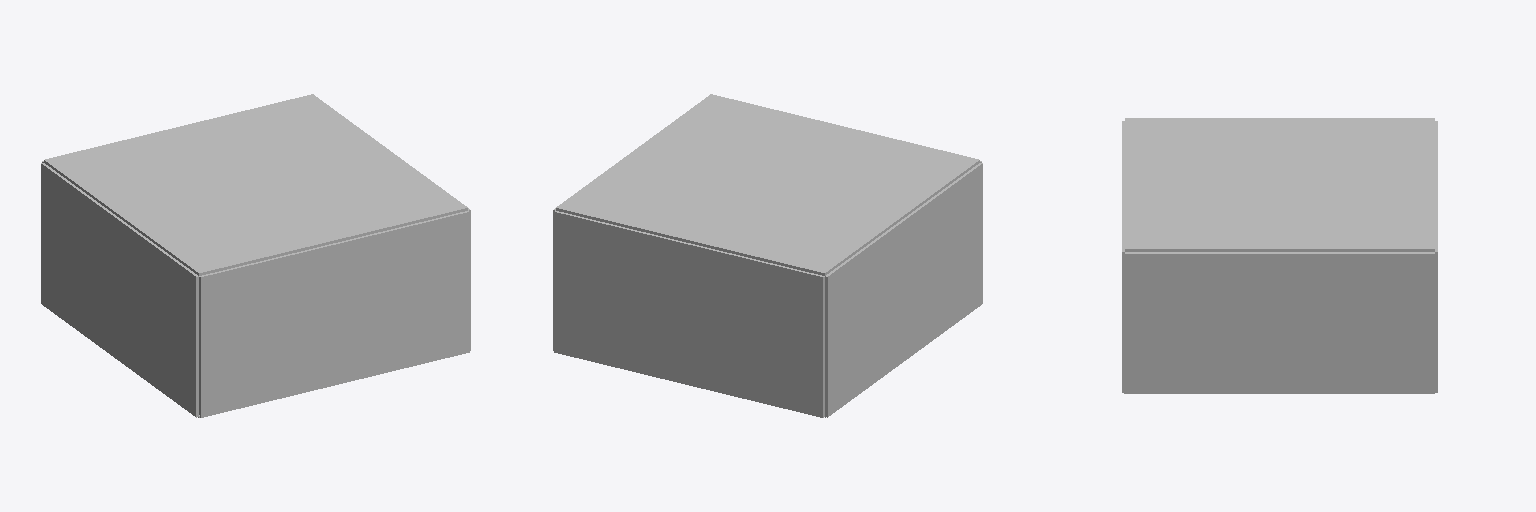
File: roomtest.obj
3 renders of one model, left to right at view 1: azimuth 30°, elevation 25°; view 2: azimuth 150°, elevation 25°; view 3: azimuth 270°, elevation 25°, orthographic.
Parts seen in each view (by area): view 1: Ceiling_Cube.005, Wall3_Cube.008, Wall1_Cube.006; view 2: Ceiling_Cube.005, Wall4_Cube.009, Wall1_Cube.006; view 3: Wall2_Cube.007, Ceiling_Cube.005, Wall3_Cube.008, Wall4_Cube.009.
Part boxes in pixels (x1,y1,x2,y2): Ceiling_Cube.005: (44,94,467,275); Wall3_Cube.008: (199,211,469,417); Wall1_Cube.006: (41,163,198,417); Ceiling_Cube.005: (556,94,979,275); Wall4_Cube.009: (554,211,824,417); Wall1_Cube.006: (825,163,982,417); Wall2_Cube.007: (1125,252,1434,393); Ceiling_Cube.005: (1125,118,1434,251); Wall3_Cube.008: (1122,121,1124,392); Wall4_Cube.009: (1435,121,1437,392).
Bounding box in the file's own units: 10.2 × 5.13 × 10.2.